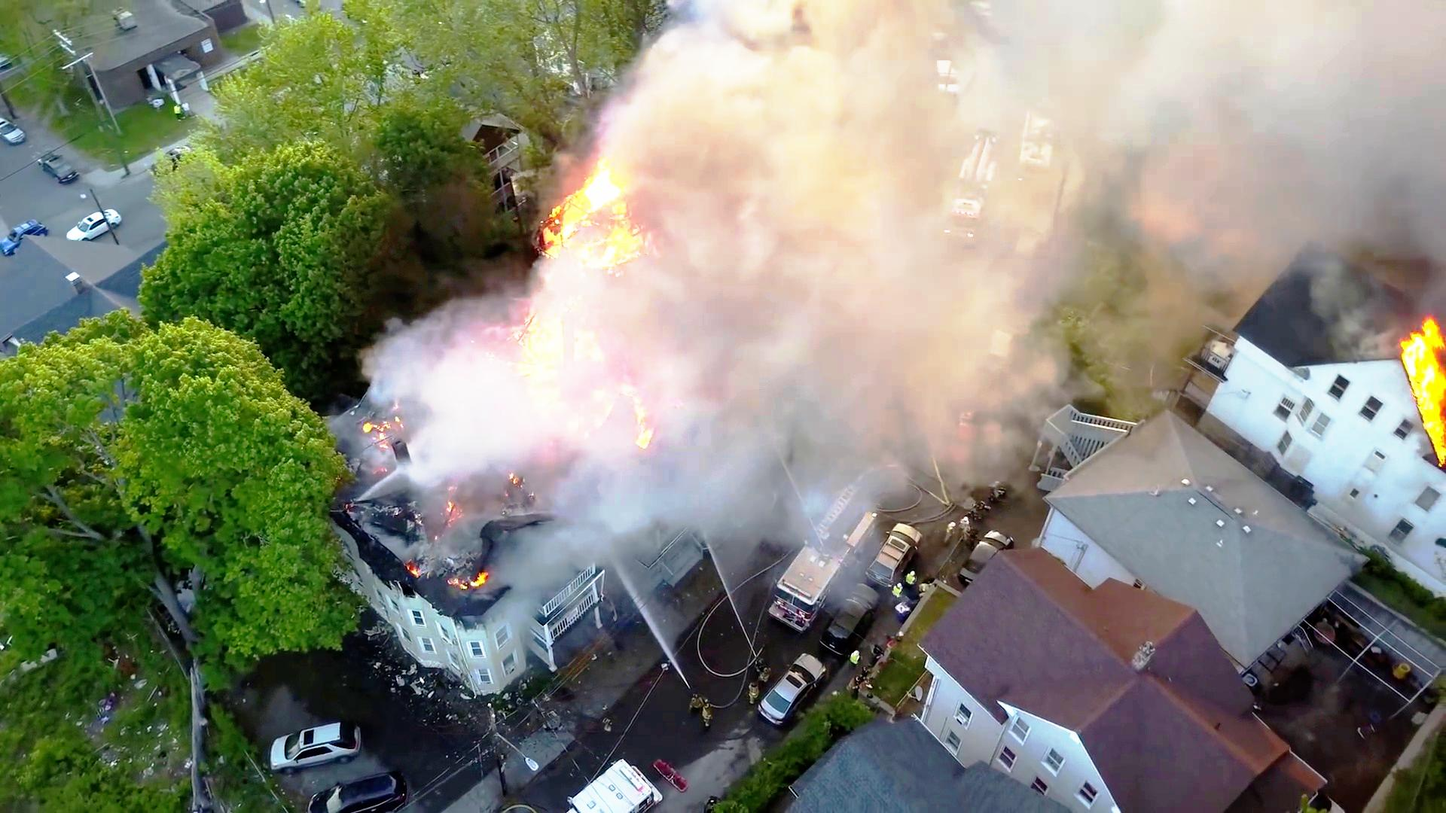fire: (552, 165, 662, 271), (514, 309, 609, 422)
